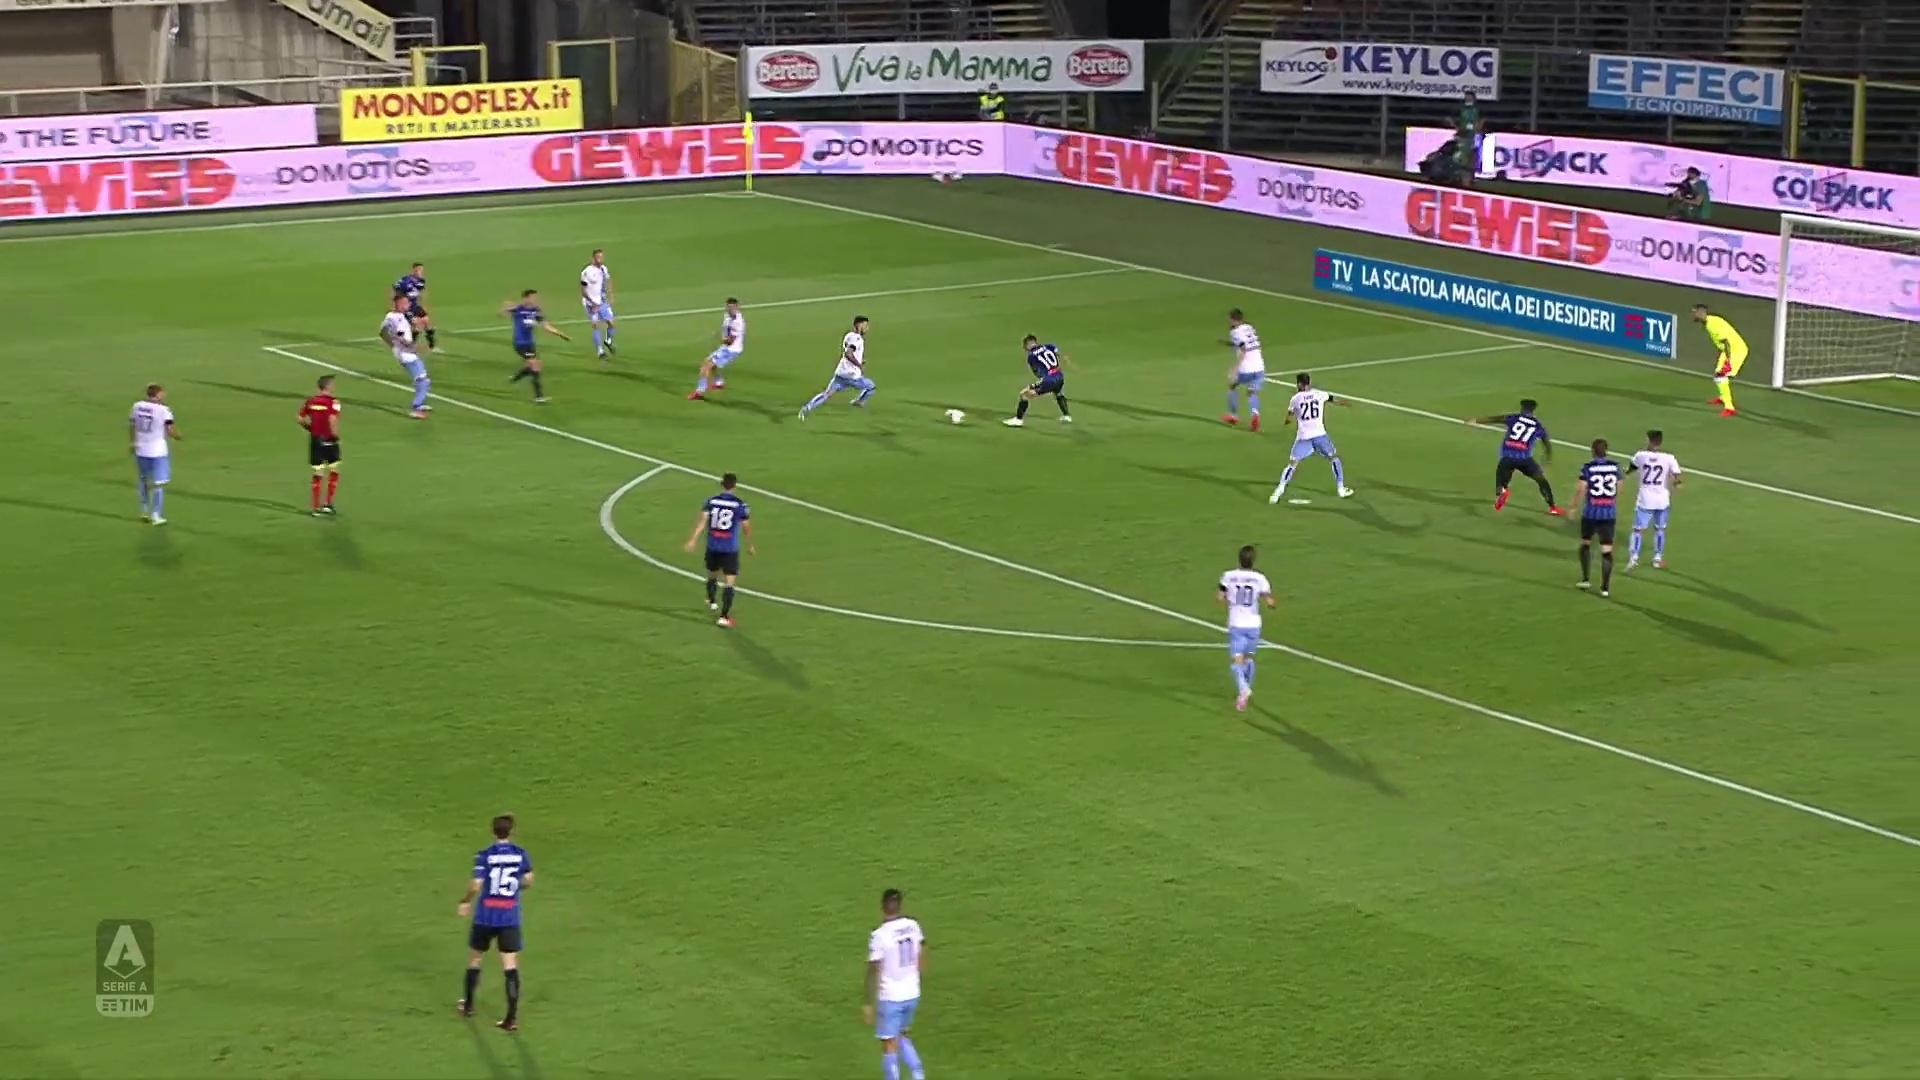ball: (945, 407, 968, 427)
